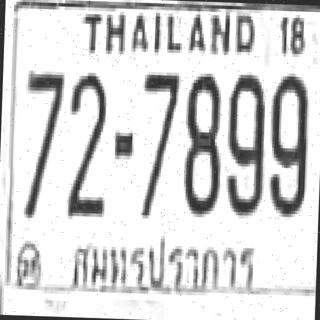N02: (64, 69, 107, 217)
N07: (21, 67, 62, 215), (138, 68, 179, 216), (139, 68, 179, 190), (22, 69, 62, 181), (140, 68, 179, 164)
N08: (180, 70, 222, 214)
N09: (223, 71, 266, 212), (268, 69, 308, 214)
P57: (67, 228, 262, 298)
